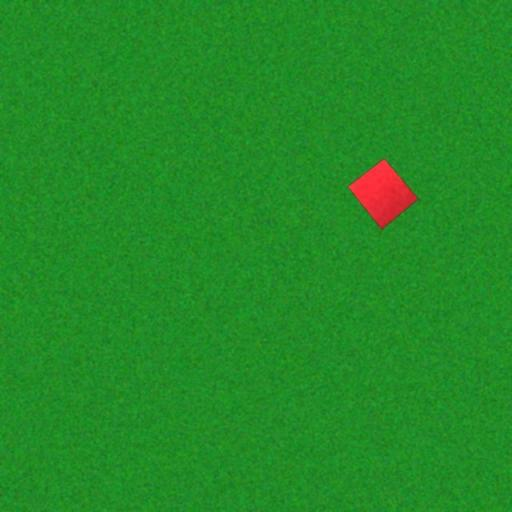RED_SQUARE: (347, 158, 419, 230)
